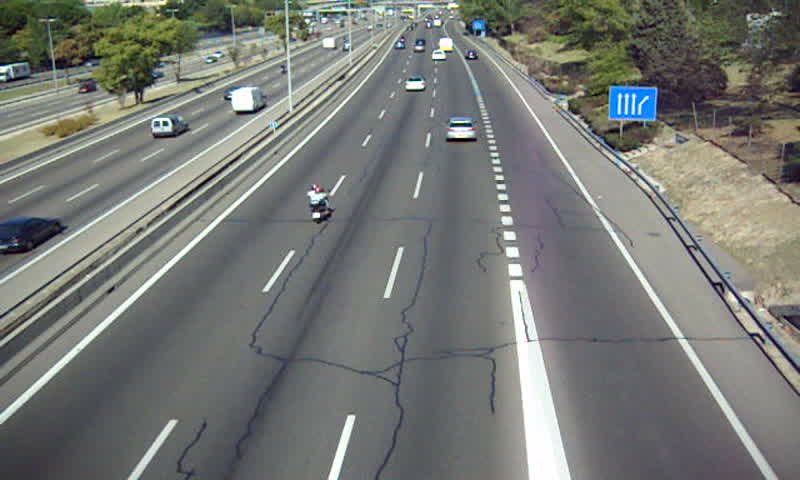car: (443, 116, 478, 144), (404, 75, 426, 91)
motorcycle: (306, 184, 331, 223)
